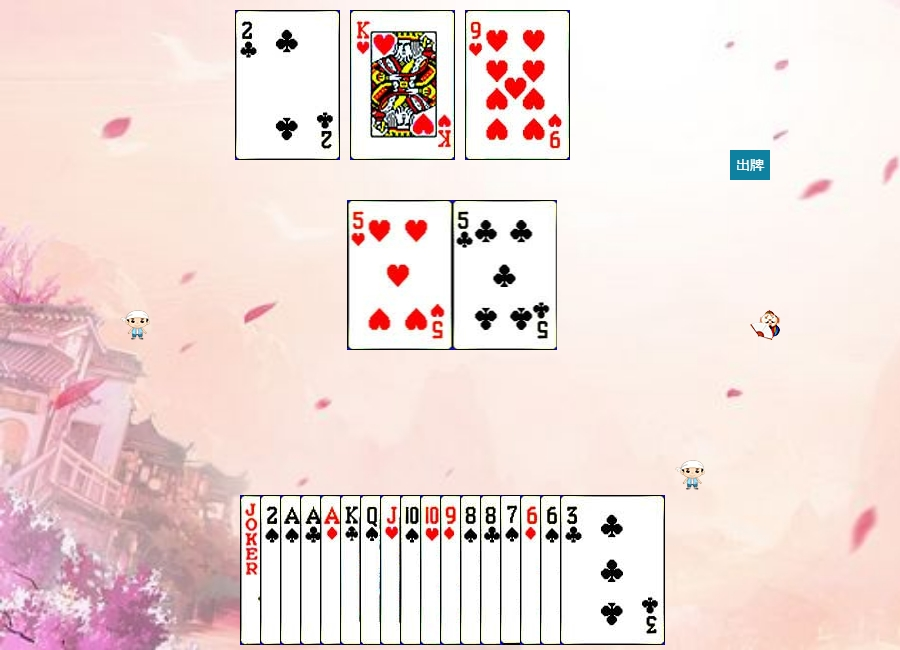10~3: (420, 495, 525, 645)
10~4: (400, 495, 505, 645)
11~3: (380, 495, 485, 645)
12~4: (360, 495, 465, 645)
13~2: (340, 495, 445, 645)
13~3: (350, 10, 455, 160)
14~1: (320, 495, 425, 645)
14~2: (300, 495, 405, 645)
14~4: (280, 495, 385, 645)
15~2: (235, 10, 340, 160)
15~4: (260, 495, 365, 645)
18~4: (240, 495, 345, 645)
3~2: (560, 495, 665, 645)
5~2: (453, 200, 558, 350)
5~3: (348, 200, 453, 350)
6~1: (520, 495, 625, 645)
6~4: (540, 495, 645, 645)
7~4: (500, 495, 605, 645)
8~2: (480, 495, 585, 645)
8~4: (460, 495, 565, 645)
9~1: (440, 495, 545, 645)
9~3: (465, 10, 570, 160)
